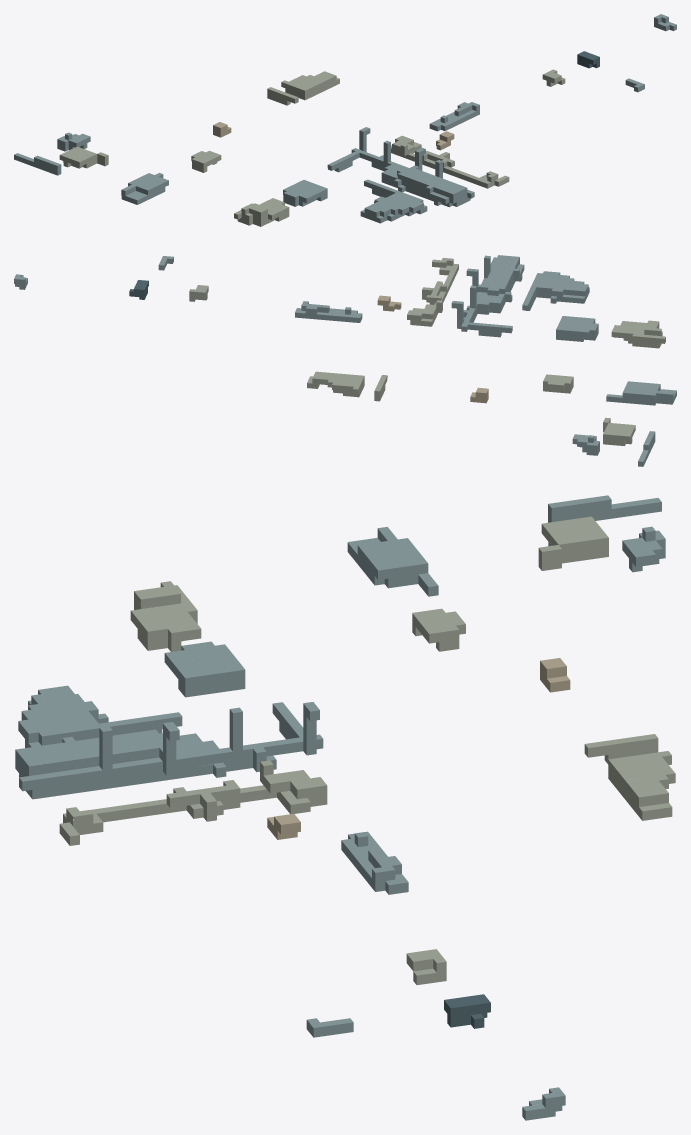
3 views of the same model, one above another, from view 1: azimuth 30°, elevation 25°; view 2: azimuth 150°, elevation 25°; view 3: azimuth 270°, elevation 25° (orthographic). The views are drawn at different scales.
Visible parts, largest first — view 1: measured-industrial; view 2: measured-industrial; view 3: measured-industrial.
Boxes of the visible parts, x1=… form: measured-industrial: x1=14, y1=14, x2=676, y2=226; measured-industrial: x1=14, y1=255, x2=676, y2=466; measured-industrial: x1=15, y1=495, x2=675, y2=1120.
Size of the model in its own units: 206 by 9.13 by 93.48.
